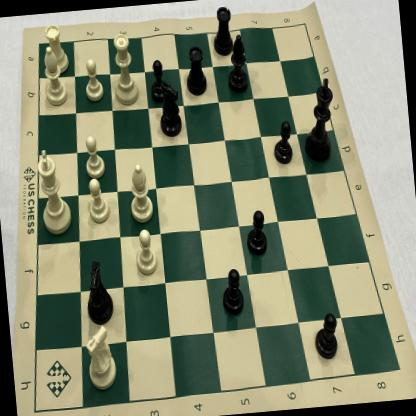bishop: (36, 44, 73, 111), (123, 158, 159, 226), (223, 32, 254, 97)
king: (296, 71, 341, 167), (32, 144, 76, 238)
knight: (80, 320, 122, 396), (80, 256, 122, 326), (154, 79, 189, 143)
pawn: (129, 226, 162, 285), (217, 260, 249, 320), (309, 308, 342, 364), (81, 174, 115, 228), (242, 203, 271, 260), (78, 132, 108, 182), (80, 52, 108, 105), (270, 116, 296, 168), (146, 55, 170, 104)
queen: (106, 28, 144, 111)
rook: (41, 22, 74, 84), (180, 41, 212, 100), (208, 0, 237, 60)
